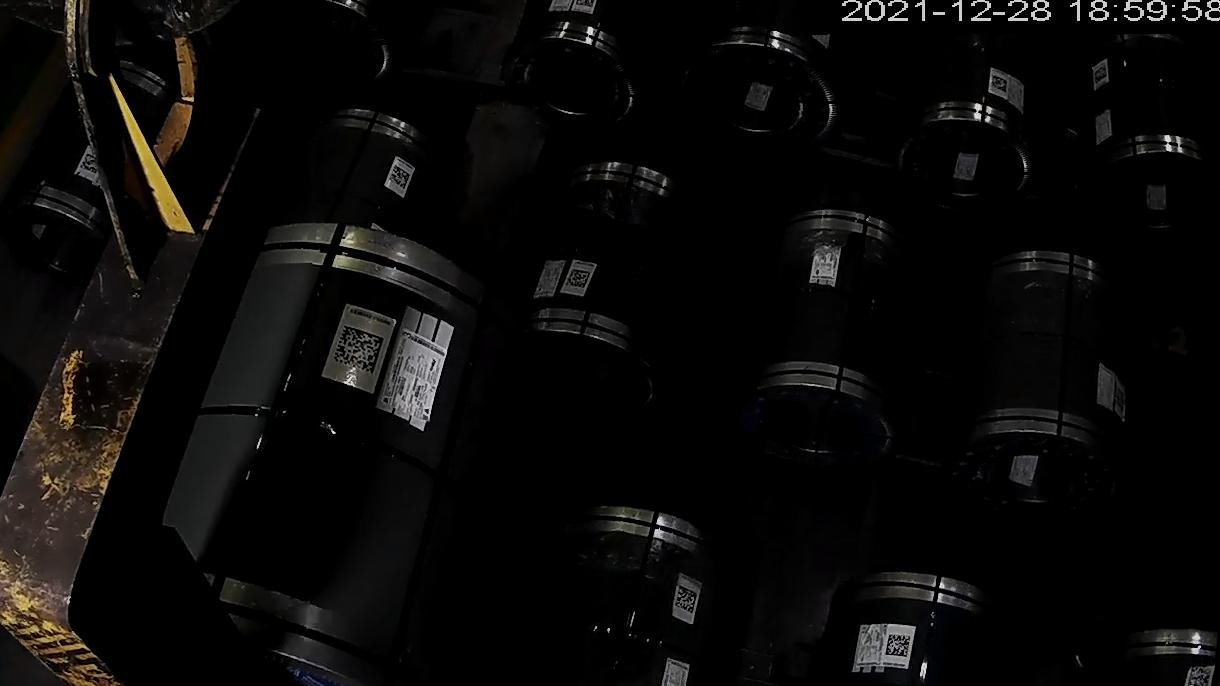data matrix: (326, 322, 389, 379), (671, 584, 701, 616), (883, 631, 914, 660), (563, 265, 593, 293), (1185, 663, 1218, 686), (386, 164, 413, 192), (987, 73, 1010, 95), (1091, 65, 1109, 84)
